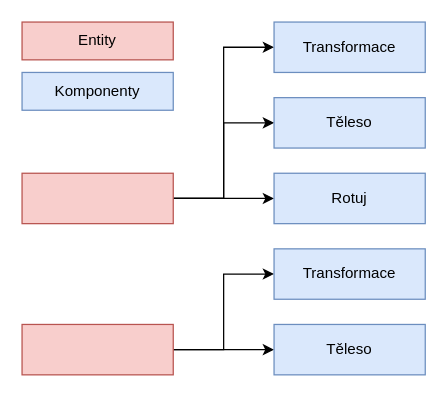
Some shapes in this 447 by 397 pixel diagram are drawn without their labels. Each missing label, with the centre of its shape:
"Entita ID: 1" belongs at [97,198].
"Entita ID: 2" belongs at [97,349].
